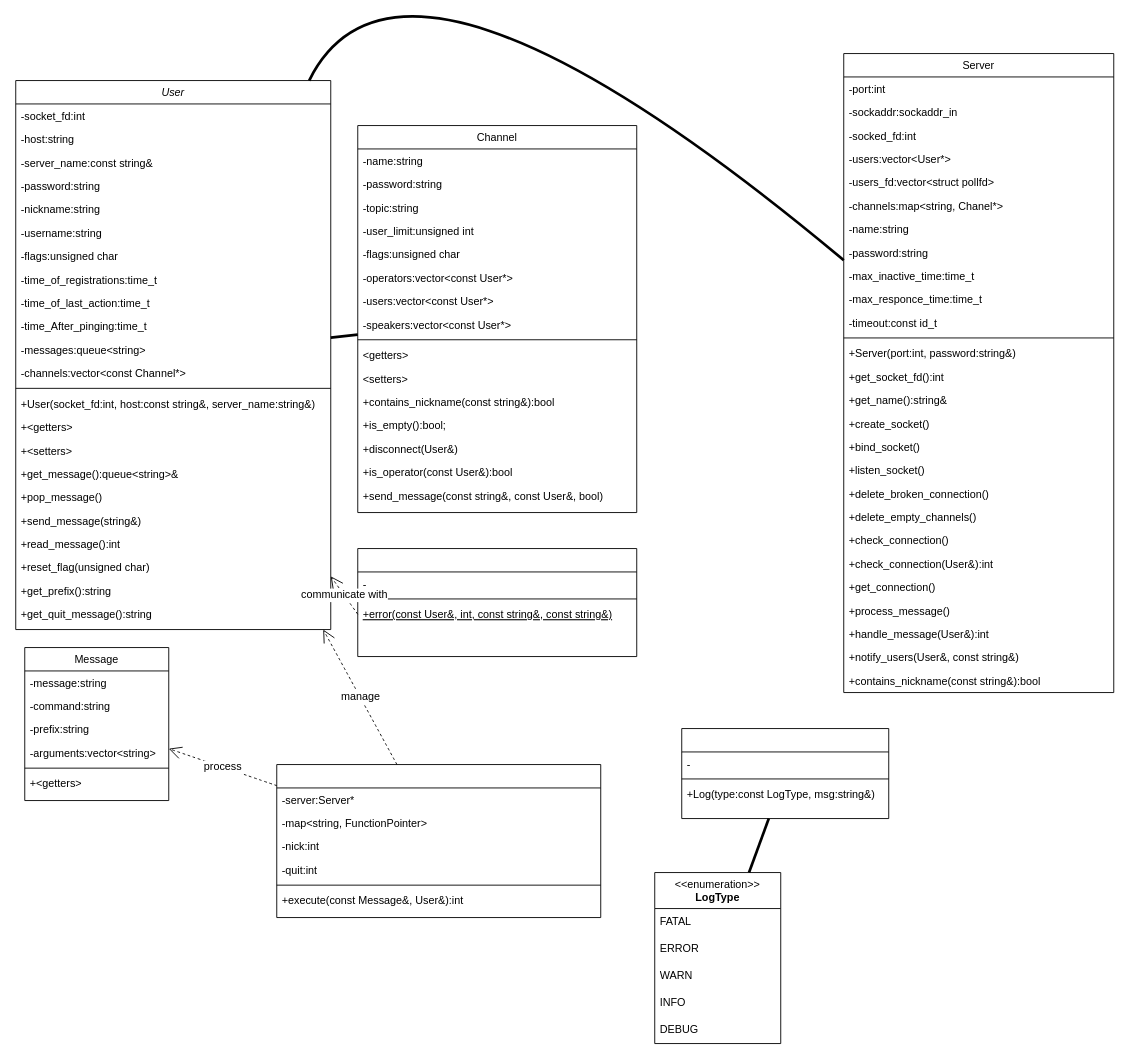
The diagram is 1130 pixels wide and 1060 high, and some of its shapes have lost their labels. The box of each missing label's shape, as (x1, y1, x2, y2) in pixels:
Executor: (276, 764, 601, 918)
Logger: (681, 728, 889, 819)
Response: (357, 548, 637, 657)
